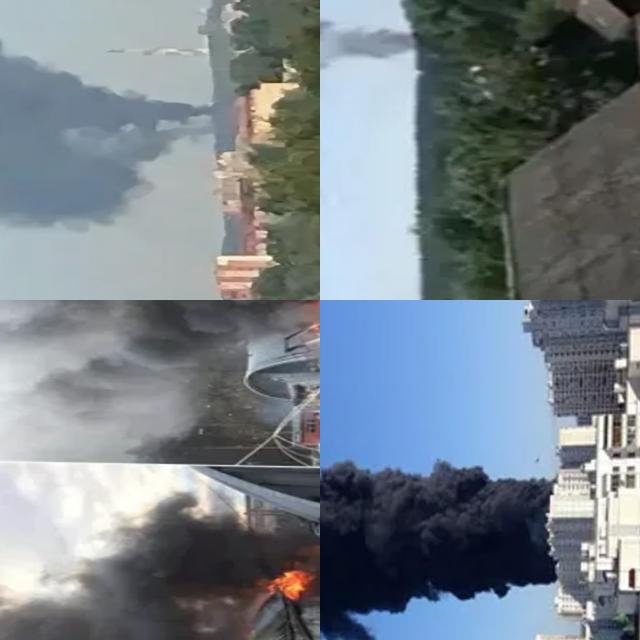smoke: (320, 371, 556, 640), (0, 300, 320, 463), (0, 488, 320, 640), (0, 31, 210, 232), (320, 12, 415, 101)
